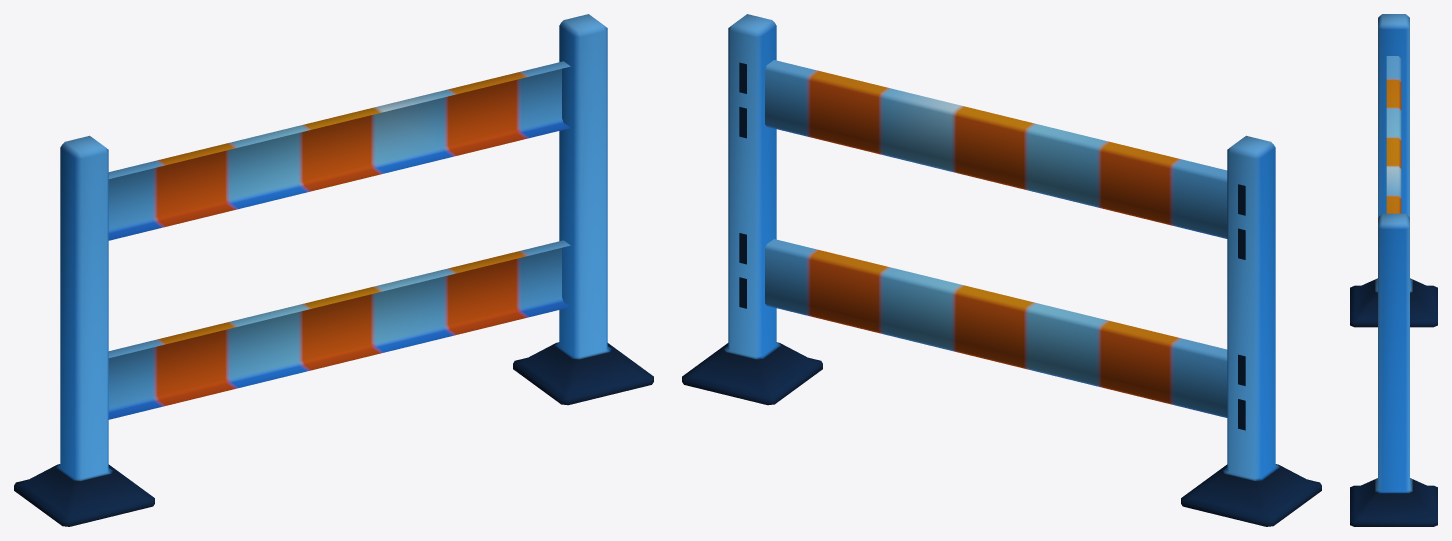
The model's file is RoadWorksBarrier02Night.fbx.
3 views of the same model, side by side, from view 1: azimuth 30°, elevation 25°; view 2: azimuth 150°, elevation 25°; view 3: azimuth 270°, elevation 25° (orthographic). The views are drawn at different scales.
Visible parts, largest first — view 1: RoadWorksBarrier02Night; view 2: RoadWorksBarrier02Night; view 3: RoadWorksBarrier02Night.
Part boxes in pixels (box(x1,y1,x2,y2)): RoadWorksBarrier02Night: box(14, 14, 653, 526); RoadWorksBarrier02Night: box(682, 14, 1321, 526); RoadWorksBarrier02Night: box(1350, 14, 1437, 526).
Bounding box in the file's own units: 272 × 155 × 42.57.
